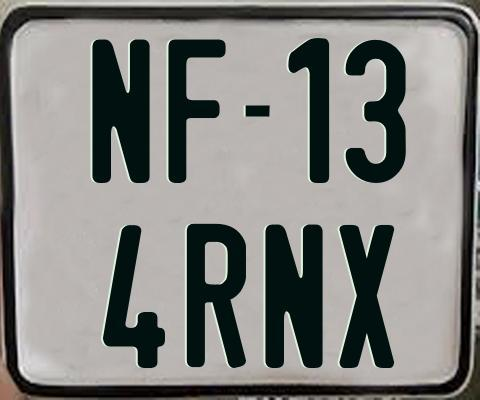1: (288, 38, 335, 184)
3: (346, 38, 406, 187)
4: (103, 225, 166, 371)
F: (165, 39, 226, 189)
N: (265, 222, 324, 369), (90, 38, 148, 187)
R: (187, 221, 252, 368)
X: (339, 225, 393, 368)
